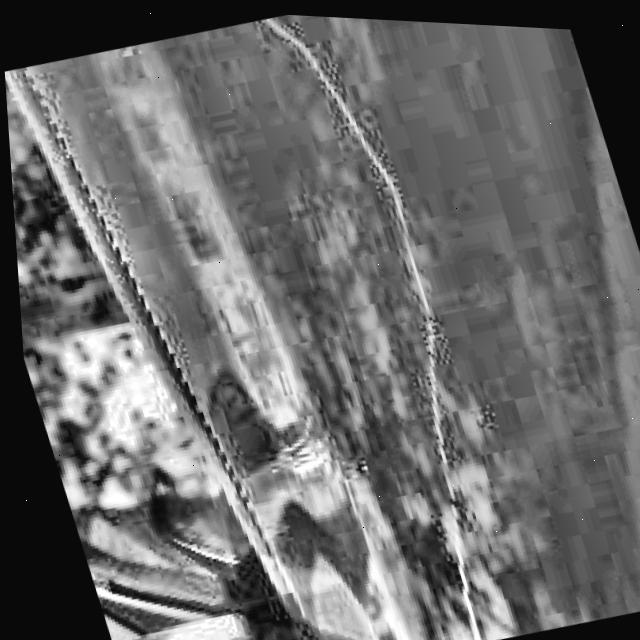door_scratch: (259, 13, 542, 640)
